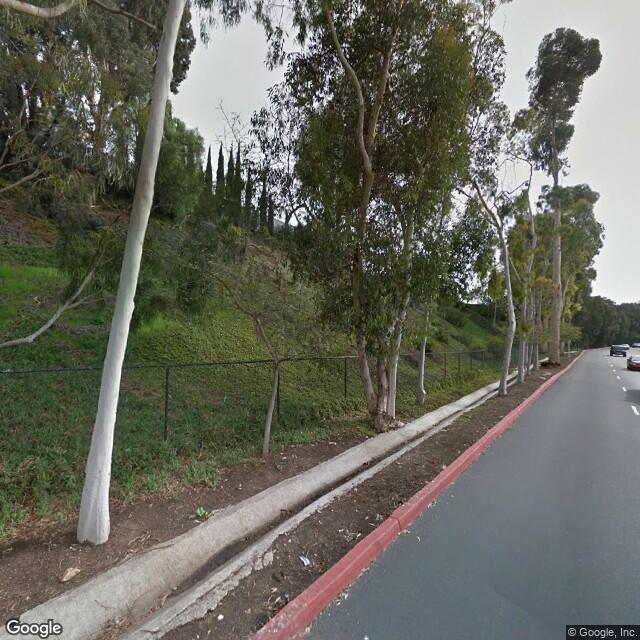litter: (267, 583, 280, 598), (365, 514, 384, 524), (338, 593, 351, 607), (299, 553, 311, 567), (113, 619, 126, 629), (398, 530, 414, 538), (283, 536, 295, 546), (438, 462, 450, 470), (216, 610, 224, 621), (304, 623, 313, 632), (362, 634, 374, 640), (326, 441, 340, 446), (335, 528, 345, 535), (364, 433, 371, 442), (349, 488, 361, 493), (237, 483, 243, 493), (281, 456, 291, 461), (206, 627, 213, 634), (356, 531, 362, 539)
